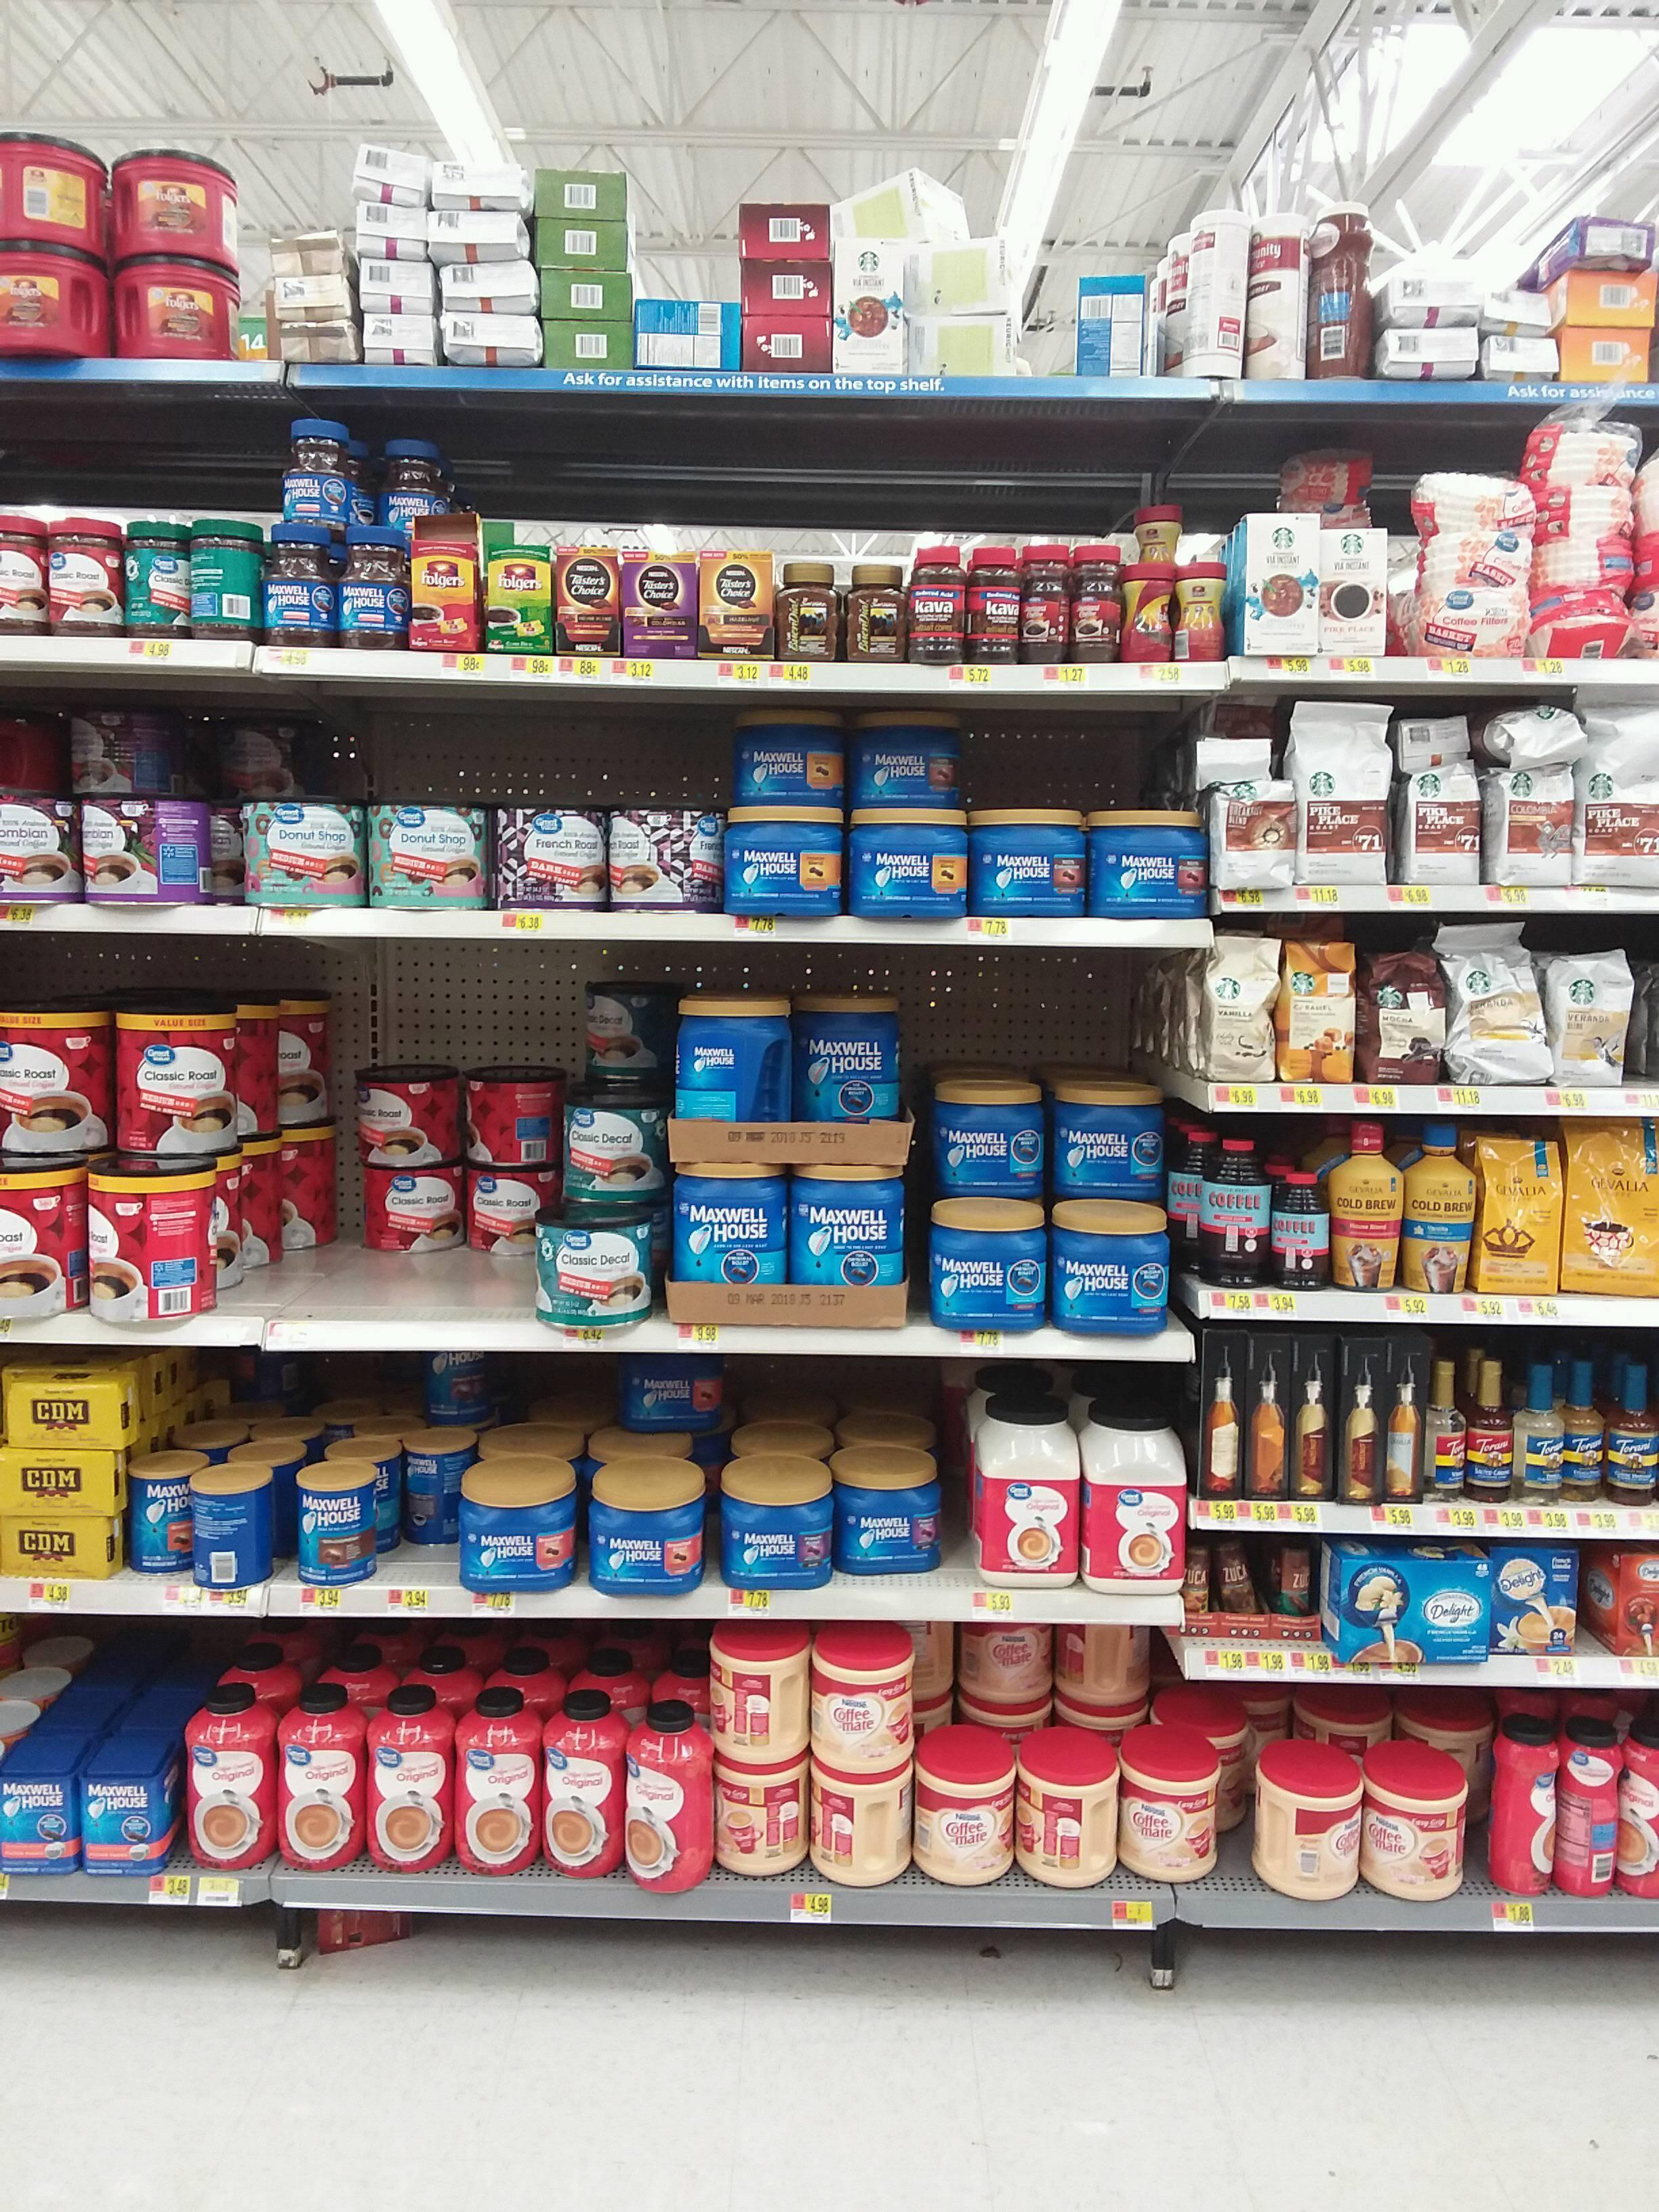misalignment: (678, 995, 791, 1122), (1478, 702, 1593, 766)
